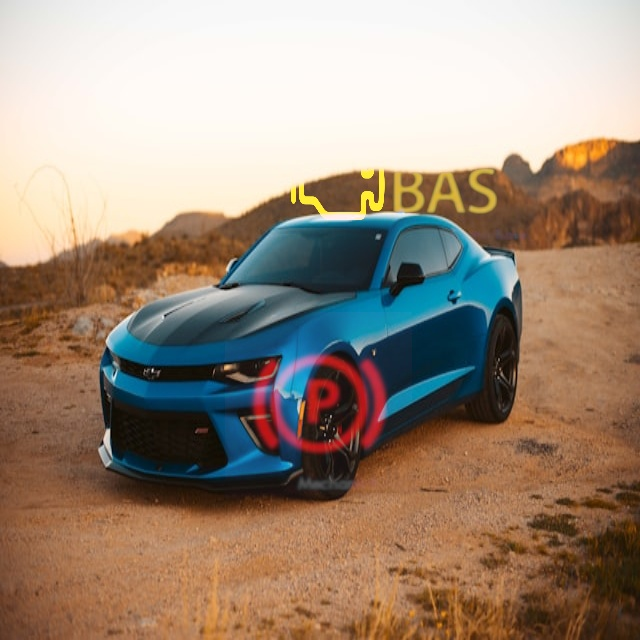symbol: (225, 312, 412, 499), (358, 73, 534, 249), (256, 88, 416, 248), (258, 54, 395, 191)
